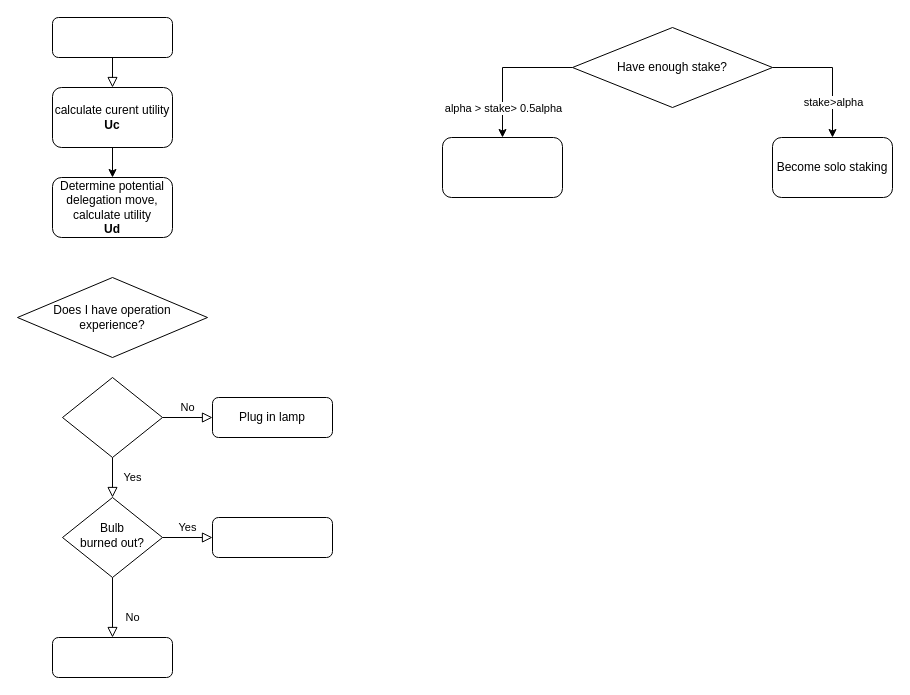
This 910x695 diagram has some shape labels left out. Here are the shapes that lost their labels. From the top down, the box of each, then its label:
(52, 16, 172, 58): start
(212, 516, 332, 558): Replace Bulb
(52, 636, 172, 678): Repair Lamp
